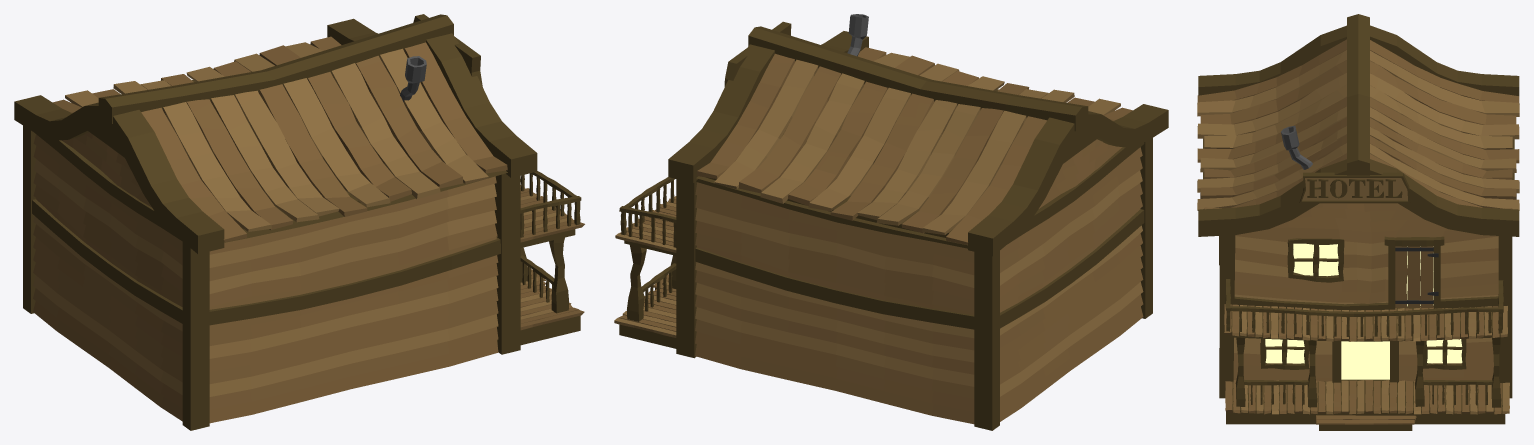
Rendered from saloon.glb.
3 renders of one model, left to right at view 1: azimuth 30°, elevation 25°; view 2: azimuth 150°, elevation 25°; view 3: azimuth 270°, elevation 25°, orthographic. The views are drawn at different scales.
Parts seen in each view (by area): view 1: Cube.003; view 2: Cube.003; view 3: Cube.003.
Boxes of the visible parts, <box> form: Cube.003: <box>14,14,584,430</box>; Cube.003: <box>614,14,1168,430</box>; Cube.003: <box>1197,14,1519,430</box>.
Bounding box in the file's own units: 12.05 × 7.68 × 9.23.
